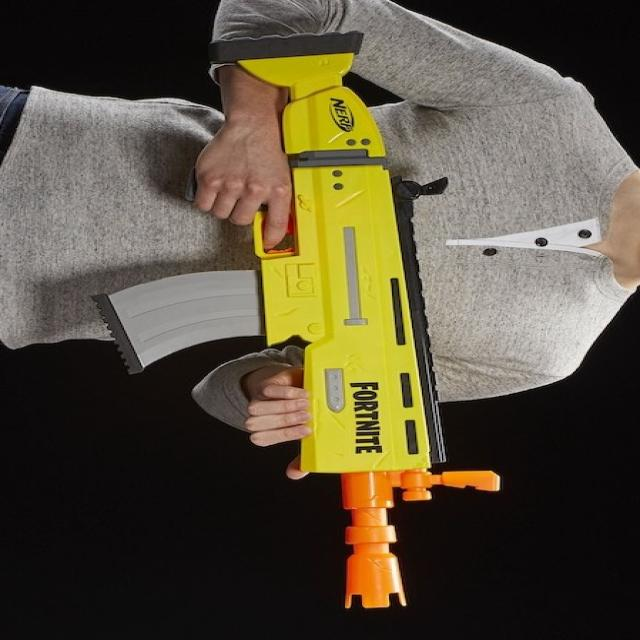Nerf gun: (85, 30, 519, 614)
